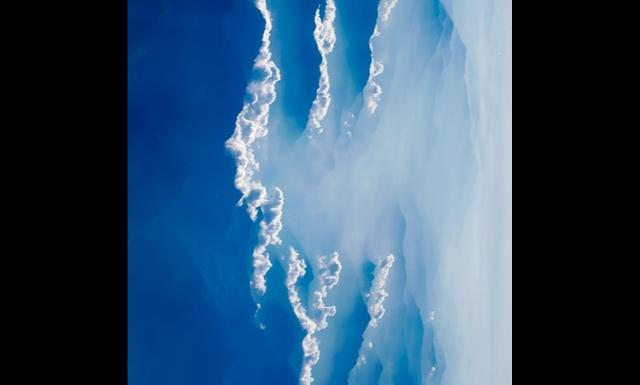Non_Gorille: (161, 0, 461, 328)
